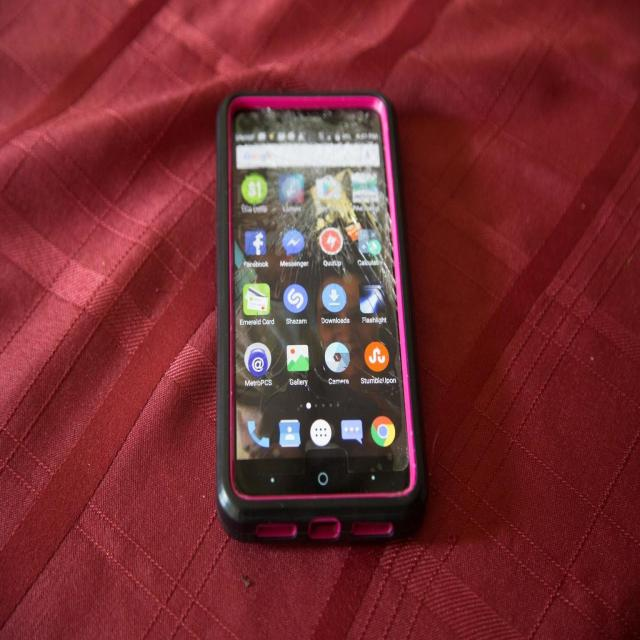Phone: (215, 79, 427, 543)
